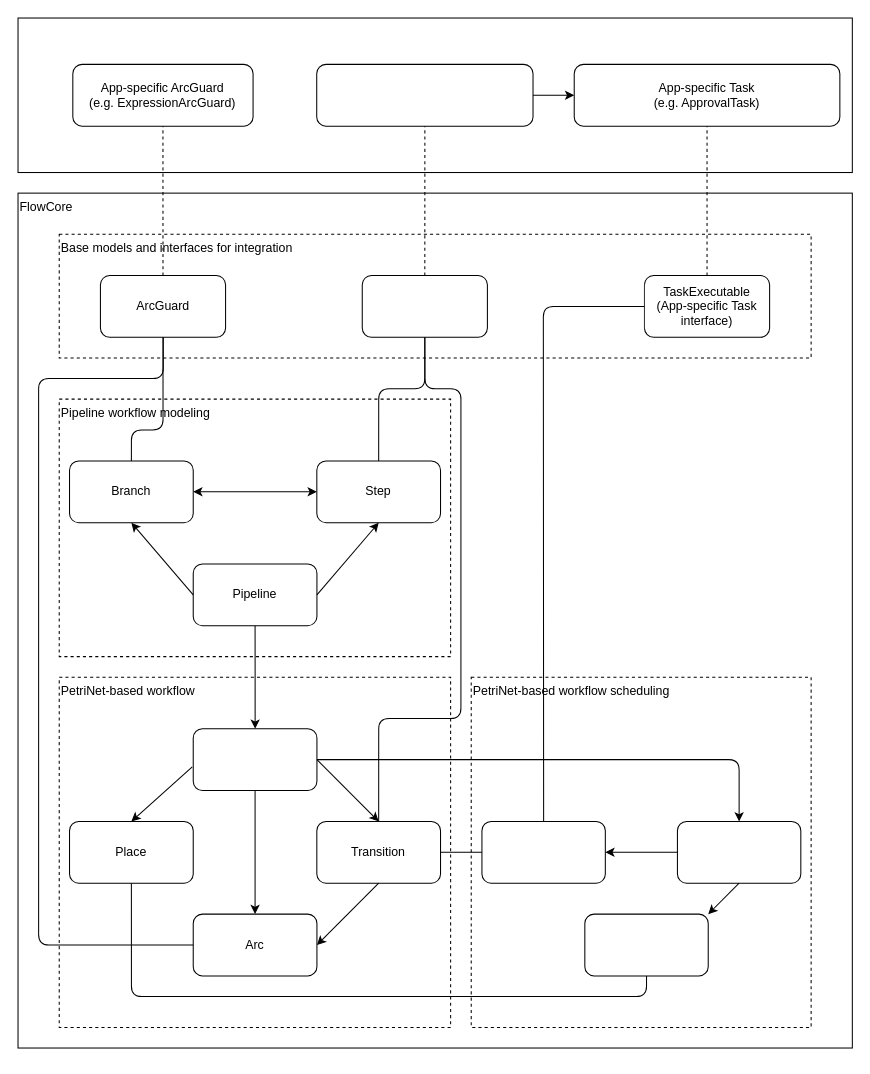
This 870x1074 diagram has some shape labels left out. The shapes that lost their labels are listed below. From the top down, each one's box as (x1, y1, x2, y2) in pixels, then its label:
(316, 63, 533, 126): App-specific TransitionTrigger (e.g. ApprovalTrigger)
(17, 17, 852, 173): Rails application
(361, 274, 487, 337): TransitionTrigger
(192, 728, 317, 791): Workflow
(481, 820, 605, 883): Task
(676, 820, 801, 883): Instance
(584, 913, 708, 976): Token
